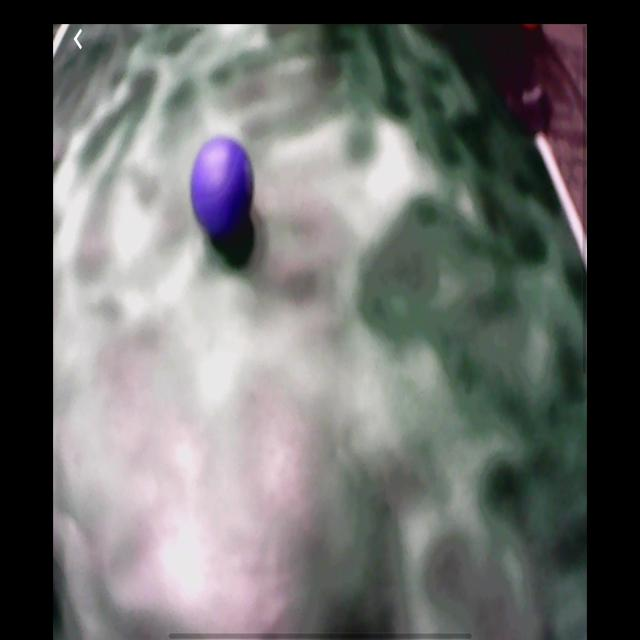ball: (193, 139, 255, 231)
